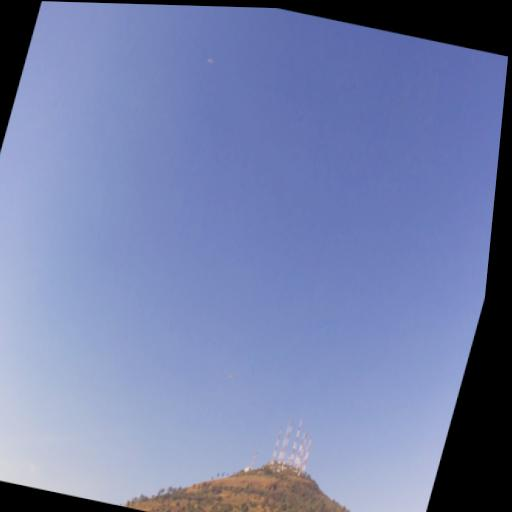drones: (225, 371, 237, 384)
